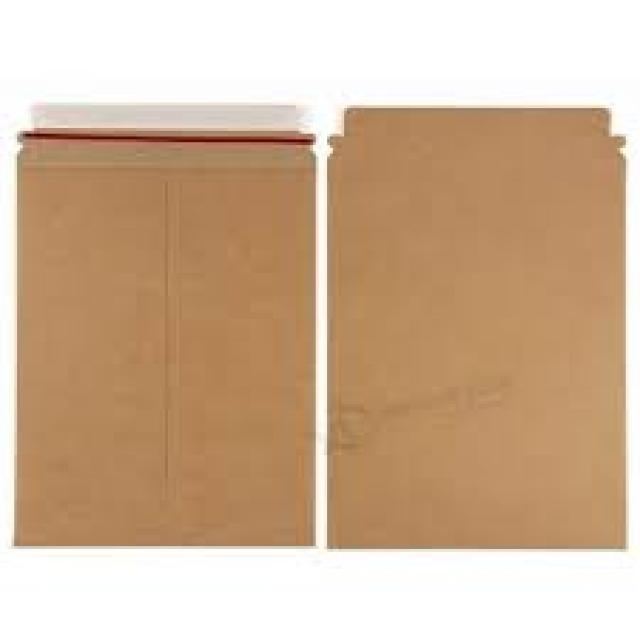Cardboard: (328, 105, 627, 553), (14, 122, 309, 549)
